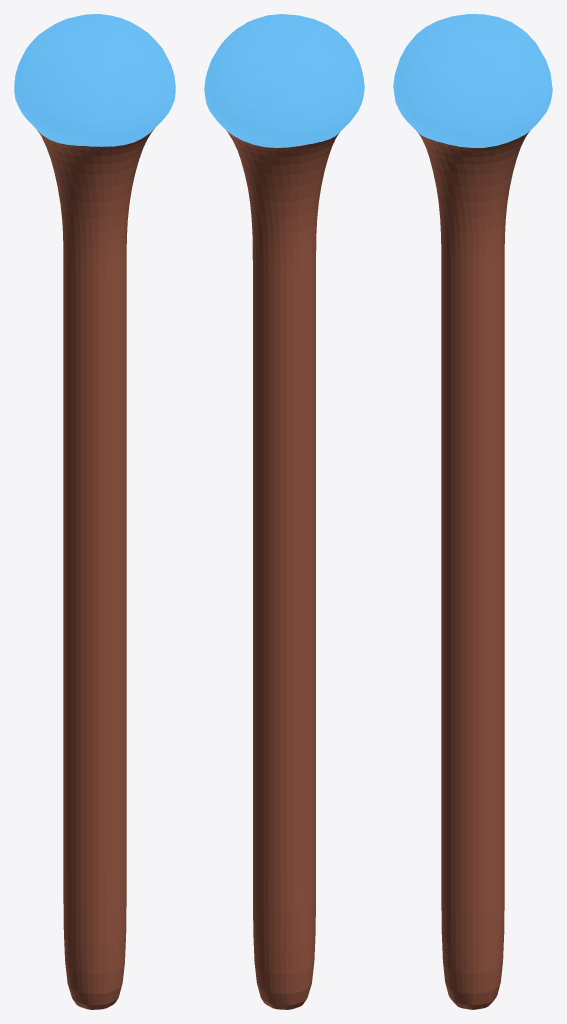
The model's file is wand.fbx.
3 views of the same model, side by side, from view 1: azimuth 30°, elevation 25°; view 2: azimuth 150°, elevation 25°; view 3: azimuth 270°, elevation 25° (orthographic).
Visible parts, largest first — view 1: Object_2, Layer 01; view 2: Object_2, Layer 01; view 3: Object_2, Layer 01.
Boxes of the visible parts, <box> form: Object_2: <box>37,128,154,1009</box>; Layer 01: <box>14,14,175,146</box>; Object_2: <box>227,131,339,1009</box>; Layer 01: <box>204,14,364,147</box>; Object_2: <box>418,131,529,1009</box>; Layer 01: <box>393,14,552,147</box>.
Bounding box in the file's own units: 466 × 466 × 3168.
